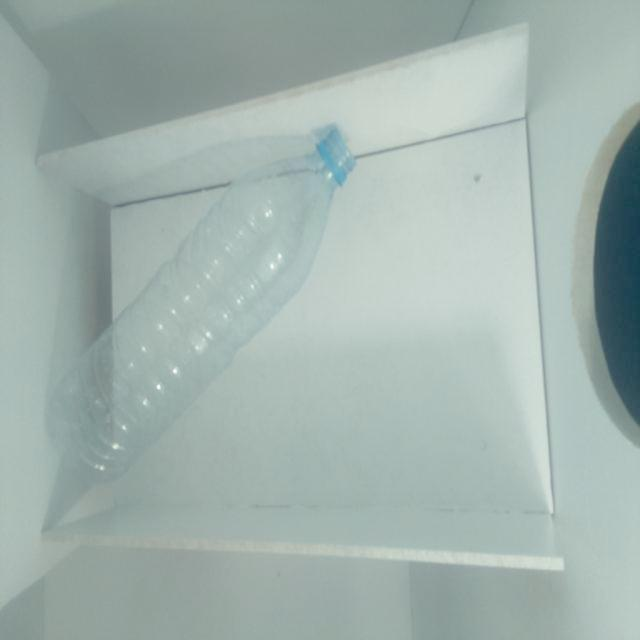bottle: (44, 128, 357, 483)
